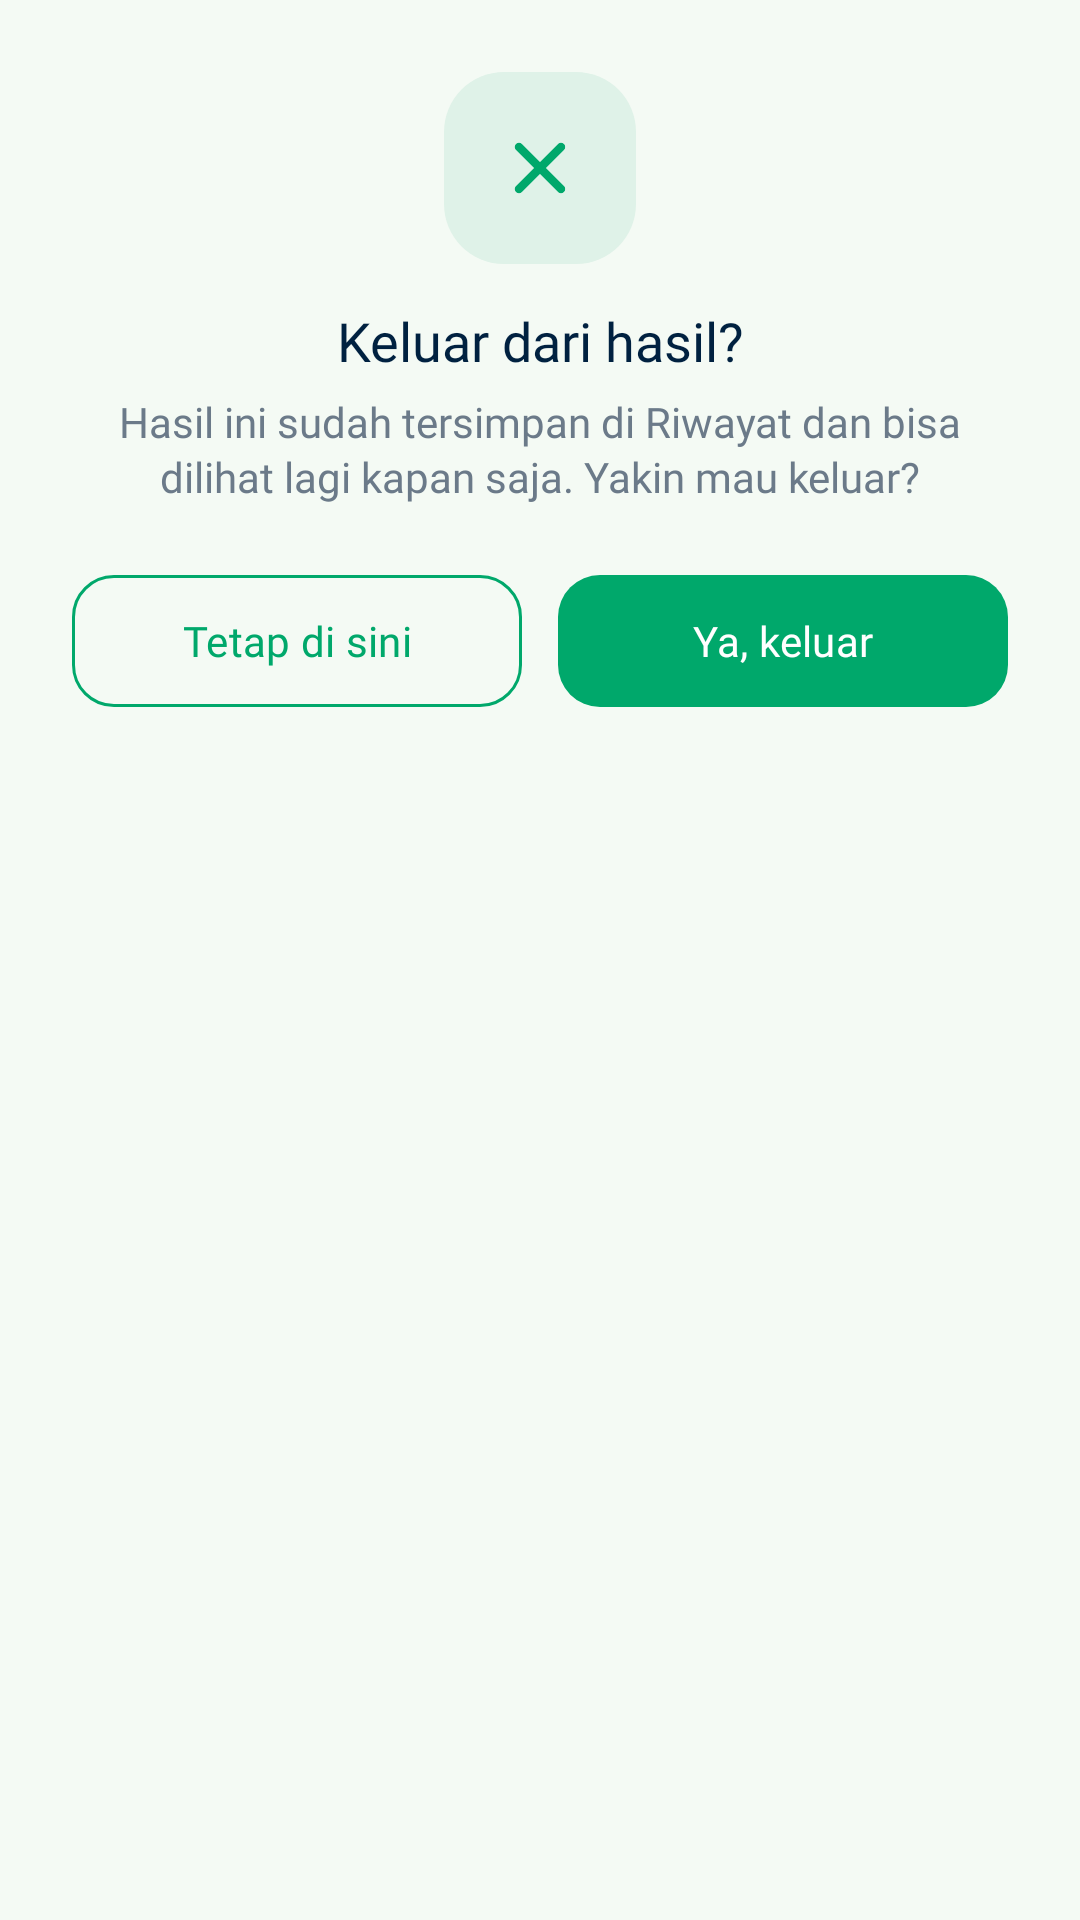

Screen size 1080px x 1920px. Icon name, then its box in pixels as [x1,y1,x2,y2]:
close: [514,142,565,194]
